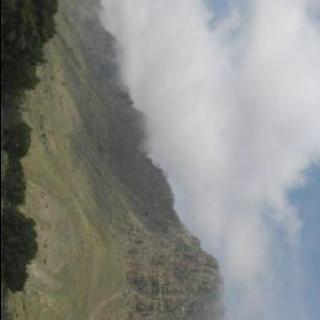Stratocumulus: (106, 0, 320, 283)
